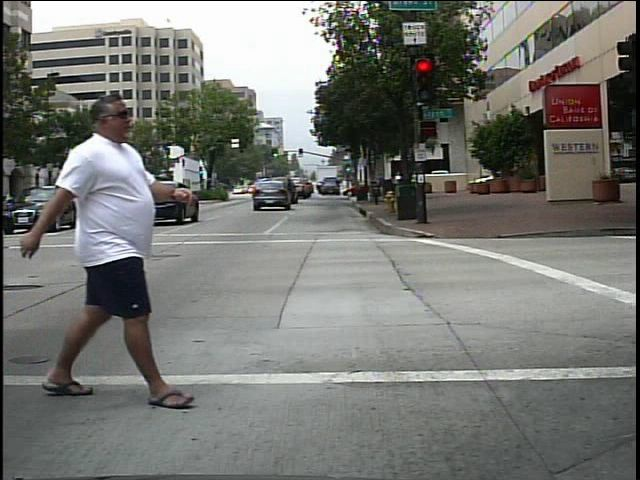person: (21, 87, 187, 407)
